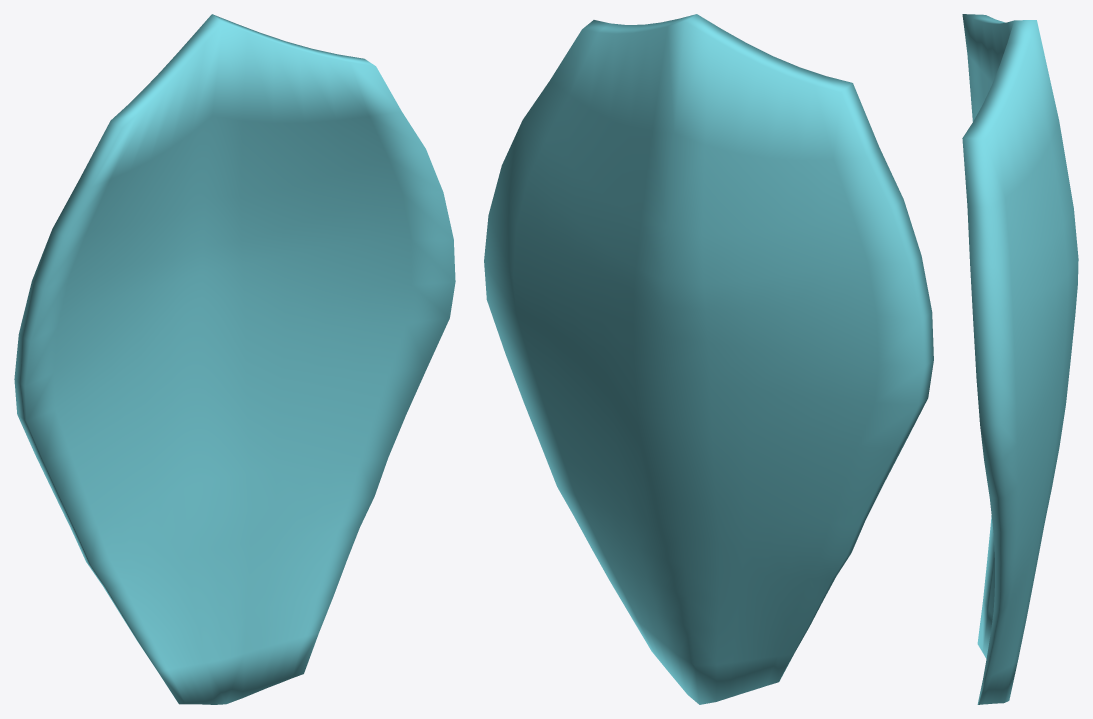
The model's file is shild.glb.
3 renders of one model, left to right at view 1: azimuth 30°, elevation 25°; view 2: azimuth 150°, elevation 25°; view 3: azimuth 270°, elevation 25°, orthographic. The views are drawn at different scales.
Visible parts, largest first — view 1: shild; view 2: shild; view 3: shild.
Part boxes in pixels (left/top/right/bottom): shild: left=14, top=14, right=455, bottom=704; shild: left=484, top=14, right=933, bottom=704; shild: left=962, top=14, right=1078, bottom=704.
Bounding box in the file's own units: 0.9532 × 1.44 × 0.2223.
